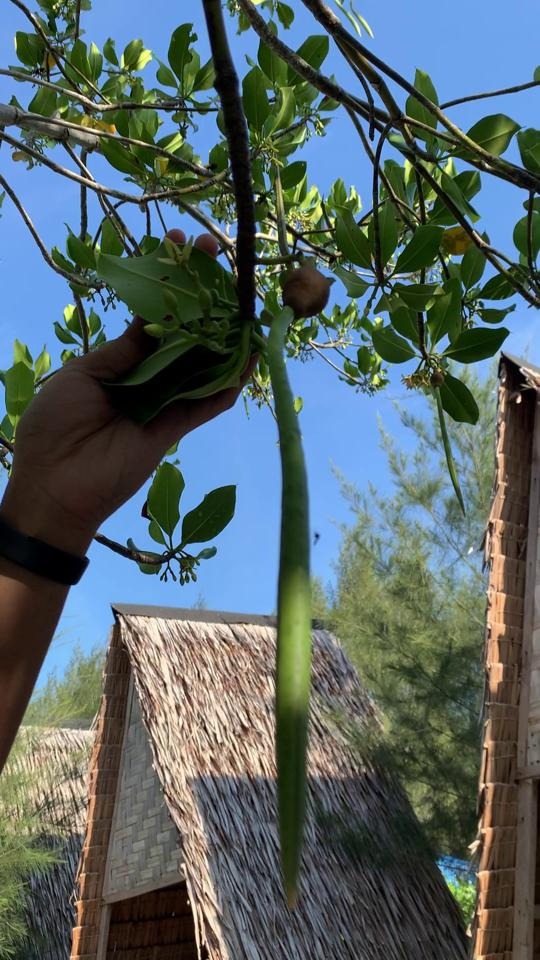mentah: (253, 223, 327, 916)
